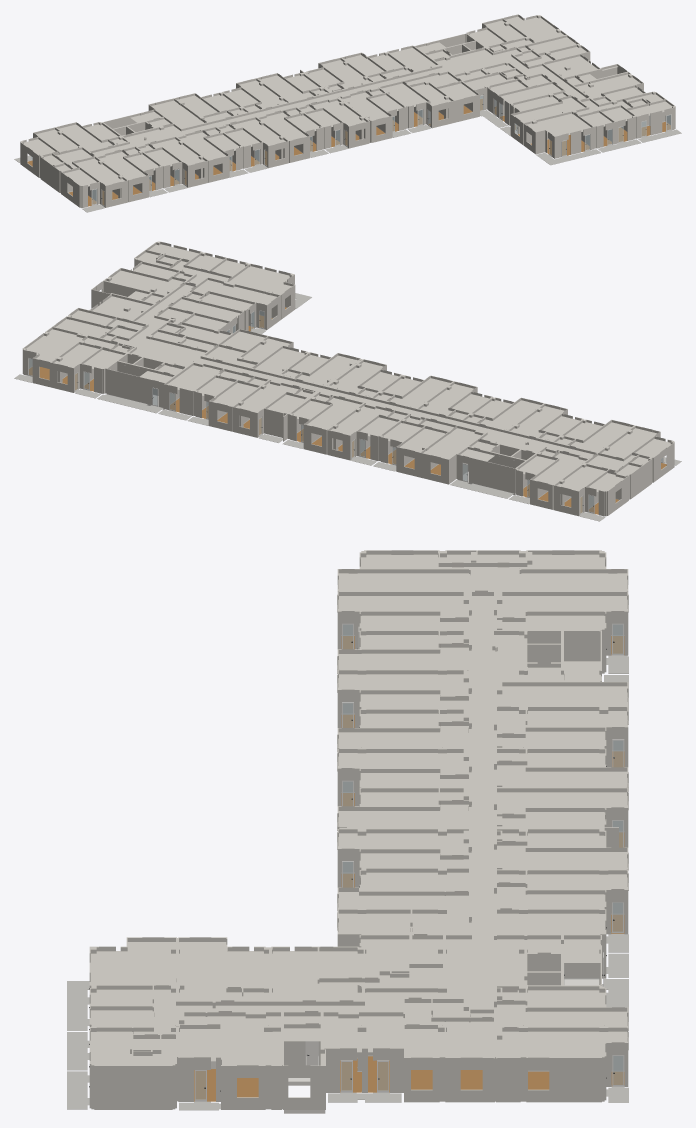
3 views of the same model, one above another, from view 1: azimuth 30°, elevation 25°; view 2: azimuth 150°, elevation 25°; view 3: azimuth 270°, elevation 25° (orthographic). The views are drawn at different scales.
Parts seen in each view (by area): view 1: in_L03_walls__int_wall, in_L03_ceiling__int_wall, in_L03_u30_walls__int_wall, in_L03_u41_walls__int_wall, in_L03_u30_ceiling__int_wall, in_L03_u41_ceiling__int_wall, in_L03_u33_walls__int_wall, in_L03_u33_ceiling__int_wall, in_L03_u27_ceiling__int_wall, in_L03_u22_ceiling__int_wall, in_L03_u28_ceiling__int_wall, in_L03_u32_ceiling__int_wall (+32 smaller); view 2: in_L03_walls__int_wall, in_L03_ceiling__int_wall, in_L03_u41_walls__int_wall, in_L03_u30_ceiling__int_wall, in_L03_u41_ceiling__int_wall, in_L03_u27_walls__int_wall, in_L03_u33_ceiling__int_wall, in_L03_u27_ceiling__int_wall, in_L03_u22_ceiling__int_wall, in_L03_u22_walls__int_wall, in_L03_u28_ceiling__int_wall, in_L03_u32_ceiling__int_wall (+28 smaller); view 3: in_L03_walls__int_wall, in_L03_ceiling__int_wall, in_L03_u30_ceiling__int_wall, in_L03_u41_ceiling__int_wall, in_L03_u27_walls__int_wall, in_L03_u33_ceiling__int_wall, in_L03_u27_ceiling__int_wall, in_L03_u32_ceiling__int_wall, in_L03_u28_ceiling__int_wall, in_L03_u30_walls__int_wall, in_L03_u22_ceiling__int_wall, in_L03_u28_walls__int_wall (+37 smaller).
Part boxes in pixels (<box>): in_L03_walls__int_wall: <box>55,33,675,207</box>; in_L03_ceiling__int_wall: <box>92,42,617,155</box>; in_L03_u30_walls__int_wall: <box>523,91,675,158</box>; in_L03_u41_walls__int_wall: <box>20,127,127,207</box>; in_L03_u30_ceiling__int_wall: <box>526,94,671,135</box>; in_L03_u41_ceiling__int_wall: <box>24,129,124,186</box>; in_L03_u33_walls__int_wall: <box>378,69,488,128</box>; in_L03_u33_ceiling__int_wall: <box>382,70,485,106</box>; in_L03_u27_ceiling__int_wall: <box>470,16,563,50</box>; in_L03_u22_ceiling__int_wall: <box>151,95,244,127</box>; in_L03_u28_ceiling__int_wall: <box>517,37,597,77</box>; in_L03_u32_ceiling__int_wall: <box>465,65,561,102</box>; in_L03_walls__int_wall: <box>22,259,635,515</box>; in_L03_ceiling__int_wall: <box>113,284,593,461</box>; in_L03_u41_walls__int_wall: <box>554,425,674,516</box>; in_L03_u30_ceiling__int_wall: <box>138,244,291,294</box>; in_L03_u41_ceiling__int_wall: <box>557,428,670,491</box>; in_L03_u27_walls__int_wall: <box>22,327,133,393</box>; in_L03_u33_ceiling__int_wall: <box>182,331,304,374</box>; in_L03_u27_ceiling__int_wall: <box>26,329,128,368</box>; in_L03_u22_ceiling__int_wall: <box>383,417,480,459</box>; in_L03_u22_walls__int_wall: <box>380,414,484,484</box>; in_L03_u28_ceiling__int_wall: <box>56,296,150,339</box>; in_L03_u32_ceiling__int_wall: <box>153,299,240,343</box>; in_L03_walls__int_wall: <box>91,551,628,1109</box>; in_L03_ceiling__int_wall: <box>215,596,600,1065</box>; in_L03_u30_ceiling__int_wall: <box>90,942,212,1065</box>; in_L03_u41_ceiling__int_wall: <box>338,554,627,590</box>; in_L03_u27_walls__int_wall: <box>497,986,628,1102</box>; in_L03_u33_ceiling__int_wall: <box>338,872,468,962</box>; in_L03_u27_ceiling__int_wall: <box>497,990,627,1057</box>; in_L03_u32_ceiling__int_wall: <box>272,939,442,1000</box>; in_L03_u28_ceiling__int_wall: <box>323,1003,493,1057</box>; in_L03_u30_walls__int_wall: <box>89,937,180,1109</box>; in_L03_u22_ceiling__int_wall: <box>497,686,627,747</box>; in_L03_u28_walls__int_wall: <box>328,999,497,1102</box>.
Size of the model in its own units: 82.76 by 3.6 by 38.1.
